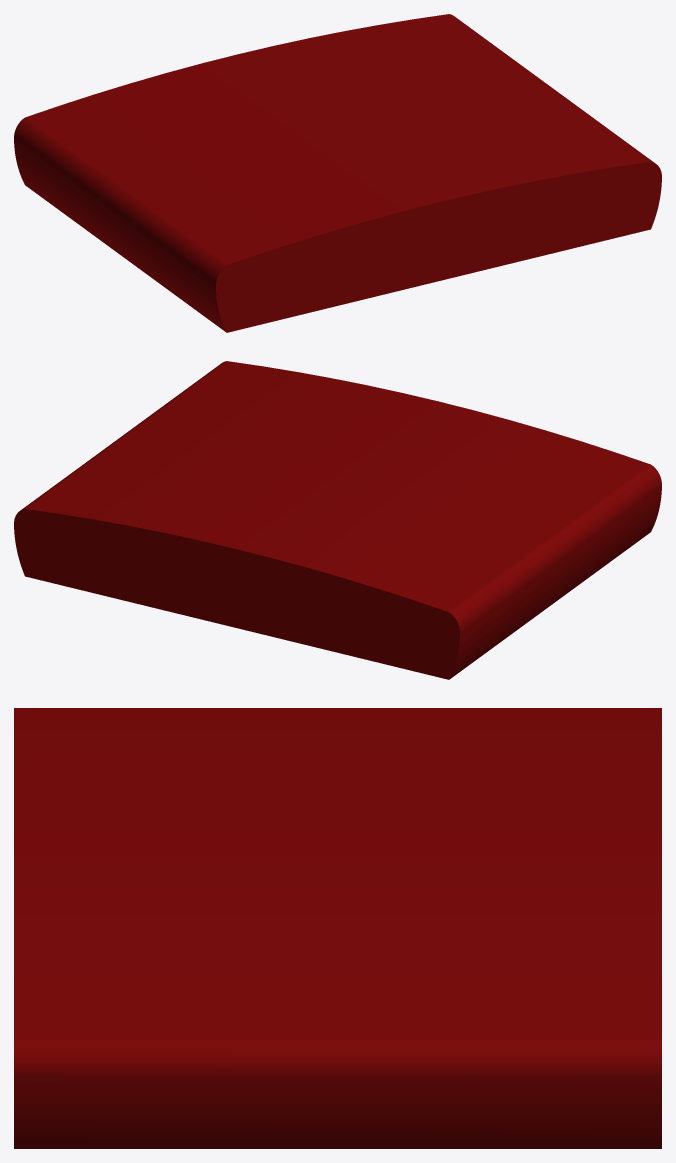
The model's file is seat.obj.
3 renders of one model, top to bottom at view 1: azimuth 30°, elevation 25°; view 2: azimuth 150°, elevation 25°; view 3: azimuth 270°, elevation 25°, orthographic. The views are drawn at different scales.
Visible parts, largest first — view 1: mesh1_mesh1-geometry; view 2: mesh1_mesh1-geometry; view 3: mesh1_mesh1-geometry.
Boxes of the visible parts, x1,y1,x2,y2 form: mesh1_mesh1-geometry: [14, 14, 661, 332]; mesh1_mesh1-geometry: [14, 361, 661, 679]; mesh1_mesh1-geometry: [14, 708, 661, 1148].
Bounding box in the file's own units: 0.4471 × 0.0756 × 0.3504.
